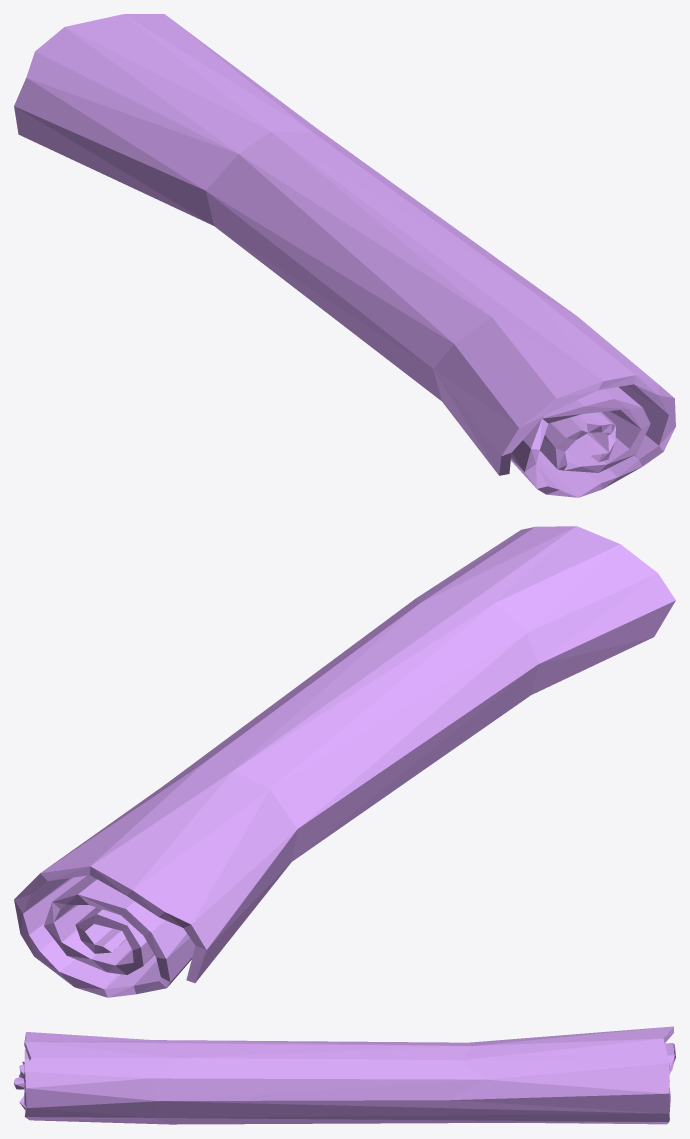
File: Cloth 04.fbx
The picture shows the model from 3 angles, top to bottom: view 1: azimuth 30°, elevation 25°; view 2: azimuth 150°, elevation 25°; view 3: azimuth 270°, elevation 25°; orthographic projection. The views are drawn at different scales.
Visible parts, largest first — view 1: Cloth 04; view 2: Cloth 04; view 3: Cloth 04.
Boxes of the visible parts, <box> form: Cloth 04: <box>14,14,675,497</box>; Cloth 04: <box>14,526,675,997</box>; Cloth 04: <box>14,1026,675,1124</box>.
Size of the model in its own units: 38.91 by 25.46 by 182.
